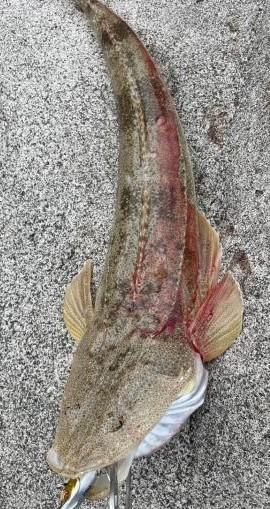fish: (47, 0, 244, 481)
